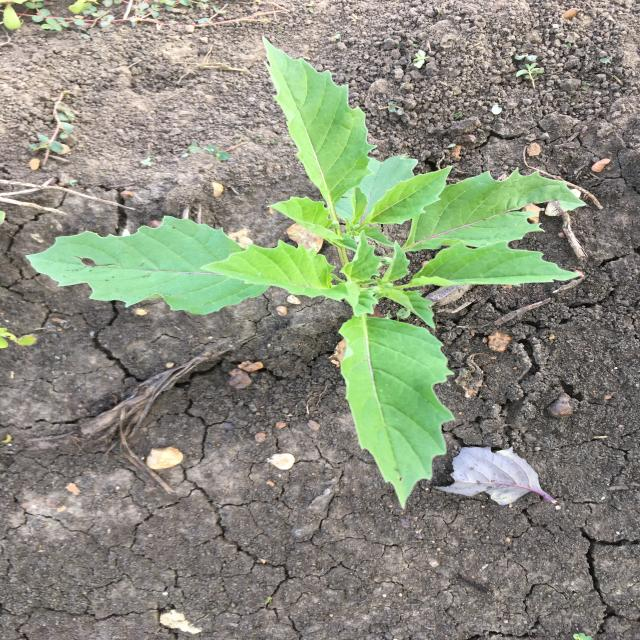CutleafGroundcherry: (22, 32, 592, 514)
SpottedSpurge: (2, 1, 230, 32), (27, 84, 78, 168)
